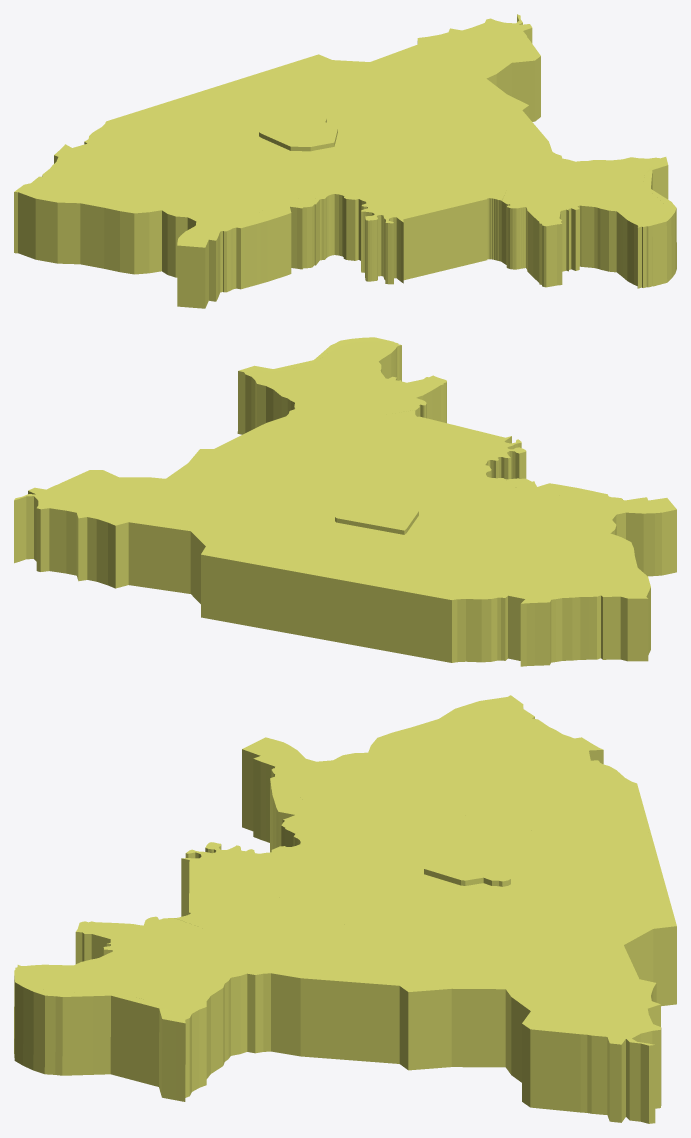
The model's file is middlesex.glb.
The picture shows the model from 3 angles, top to bottom: view 1: azimuth 30°, elevation 25°; view 2: azimuth 150°, elevation 25°; view 3: azimuth 270°, elevation 25°; orthographic projection. The views are drawn at different scales.
Parts seen in each view (by area): view 1: Plane.017; view 2: Plane.017; view 3: Plane.017.
Boxes of the visible parts, left/top/right/bottom form: Plane.017: left=14, top=14, right=676, bottom=308; Plane.017: left=14, top=337, right=676, bottom=666; Plane.017: left=14, top=695, right=676, bottom=1123.
Size of the model in its own units: 3.51 by 0.3924 by 2.81.
